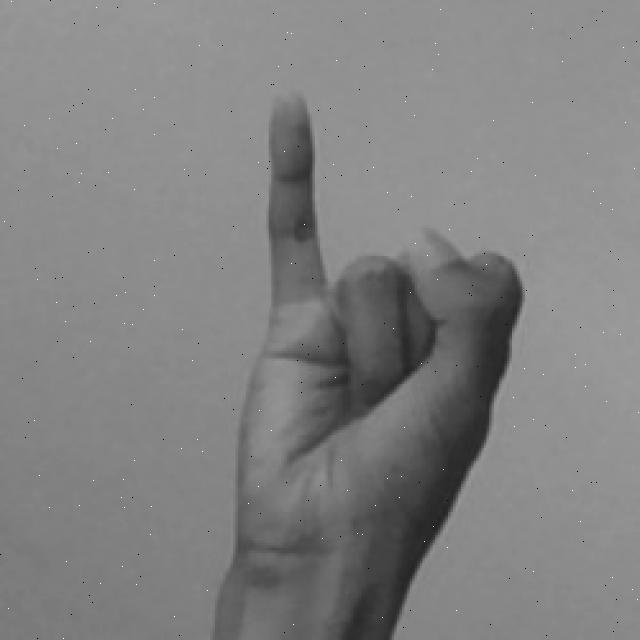I: (204, 81, 526, 640)
